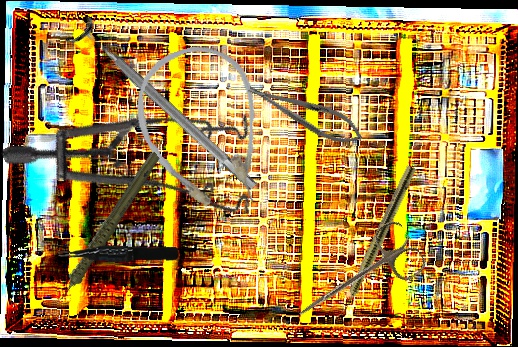Cannula: (120, 33, 285, 229)
Fixation Ring: (64, 14, 266, 201)
Handpiece: (22, 149, 187, 308), (333, 164, 418, 323)
Iris Scissors: (284, 216, 430, 342)
Needle Holder: (242, 73, 369, 153)
Speculum: (0, 50, 283, 297)
Tissue Forceps: (57, 240, 179, 266)
